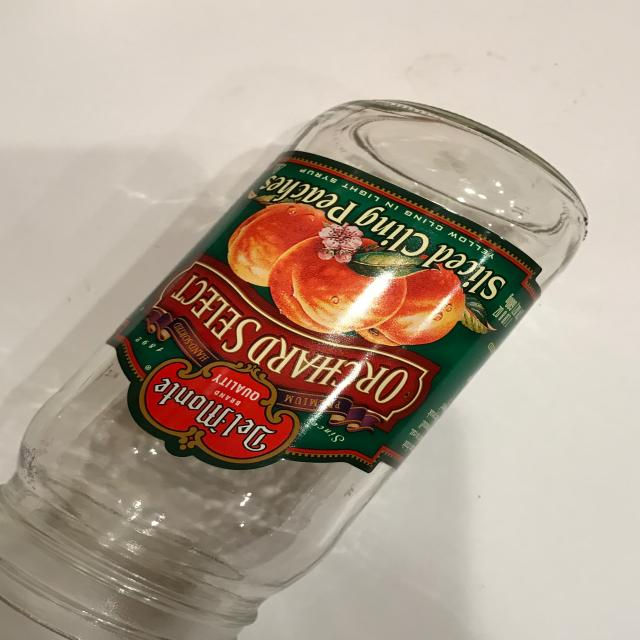Glass: (0, 86, 604, 640)
